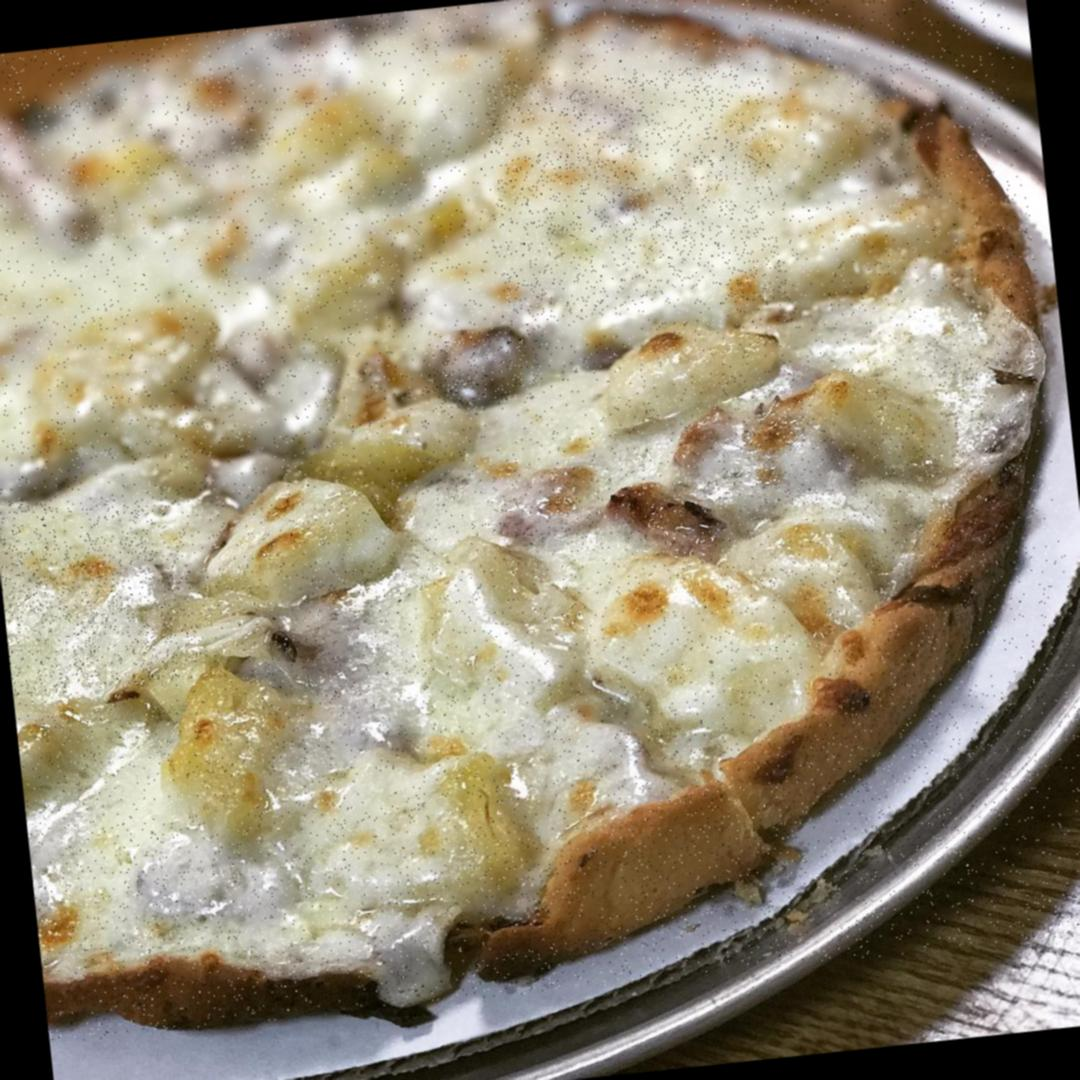Cheese: (484, 59, 785, 326), (0, 485, 200, 698), (50, 806, 208, 952)
Mushroom: (425, 323, 542, 410)
Pizza: (0, 0, 1080, 1043)
